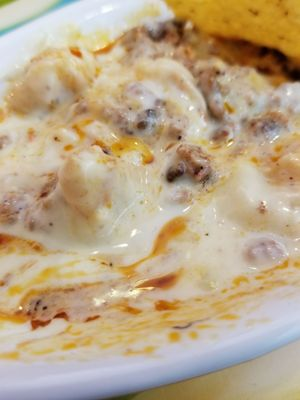sandwich: (0, 0, 300, 397)
